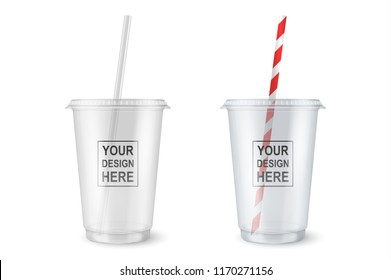plastic_glass: (211, 83, 346, 250), (62, 89, 185, 255)
